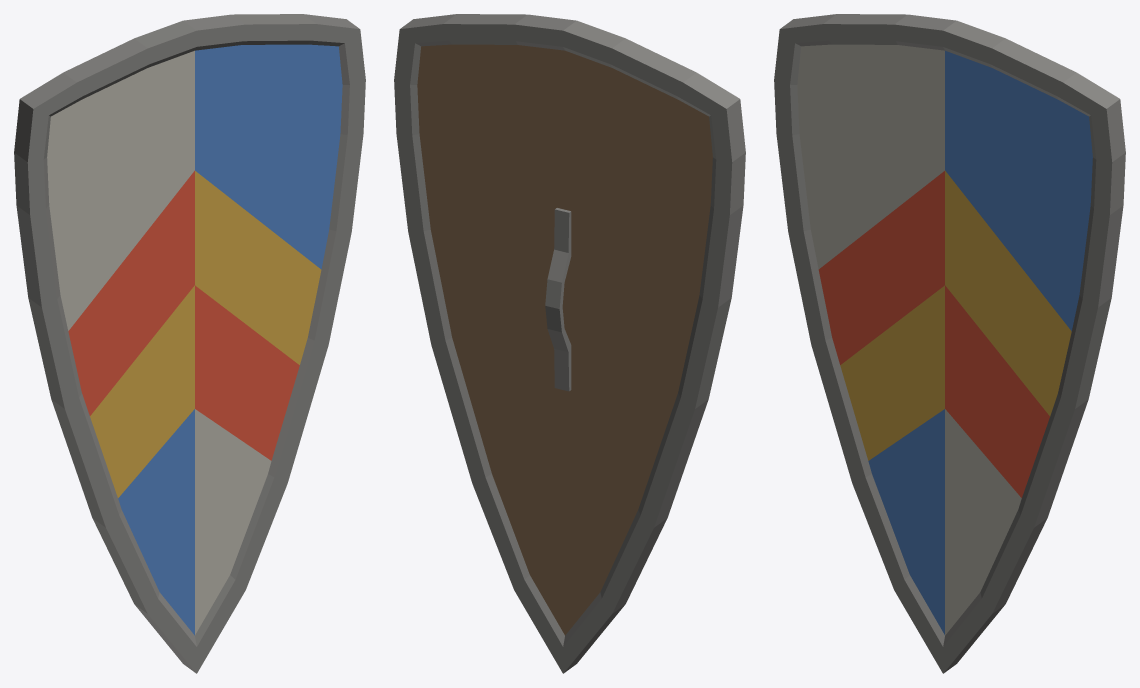
File: SM_pwe_medieval_shield_09b.fbx
3 views of the same model, side by side, from view 1: azimuth 30°, elevation 25°; view 2: azimuth 150°, elevation 25°; view 3: azimuth 330°, elevation 25° (orthographic).
Parts seen in each view (by area): view 1: SM_pwe_medieval_shield_09b; view 2: SM_pwe_medieval_shield_09b; view 3: SM_pwe_medieval_shield_09b.
Part boxes in pixels (x1,y1,x2,y2): SM_pwe_medieval_shield_09b: (14, 14, 365, 673); SM_pwe_medieval_shield_09b: (394, 14, 745, 673); SM_pwe_medieval_shield_09b: (774, 14, 1125, 673).
Bounding box in the file's own units: 63.26 × 115 × 7.62.
